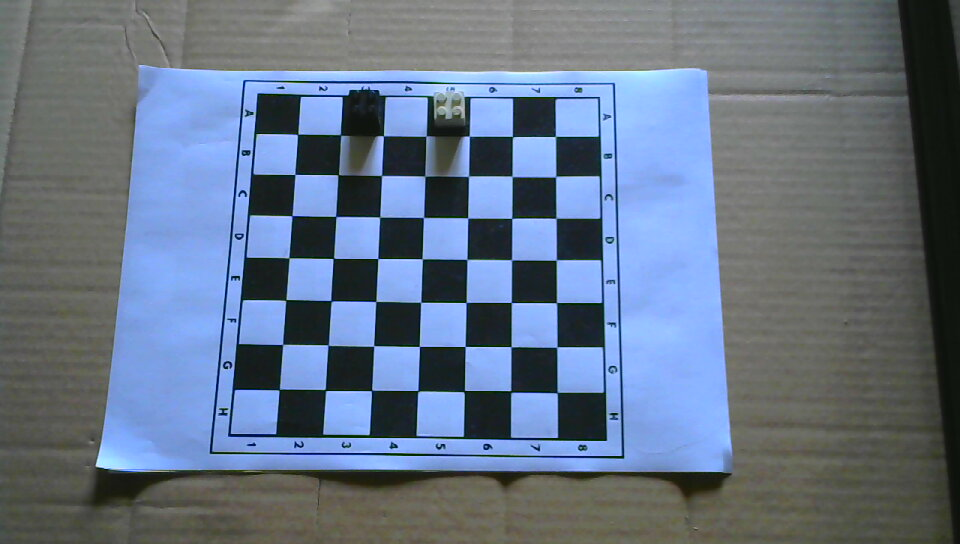bp: (345, 88, 381, 130)
wp: (432, 90, 467, 127)
